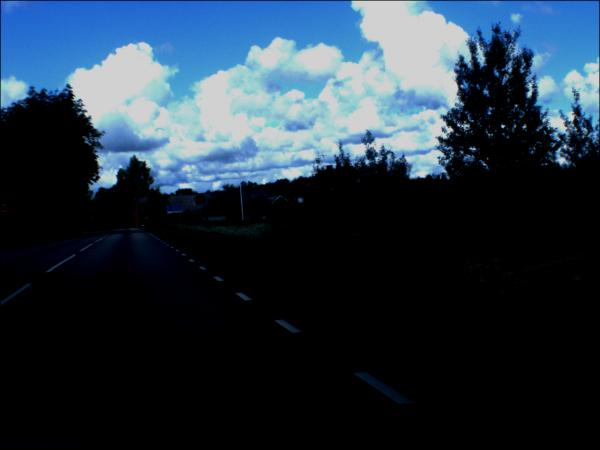50_SIGN: (197, 196, 207, 206), (2, 205, 11, 215)
